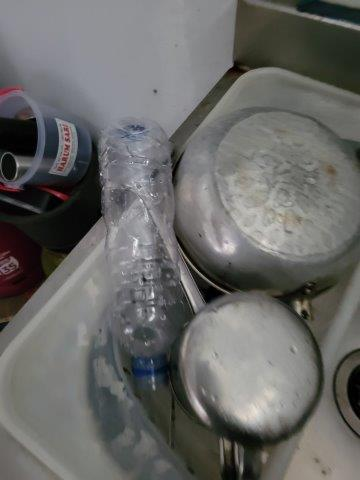botolplastik: (96, 118, 182, 391)
